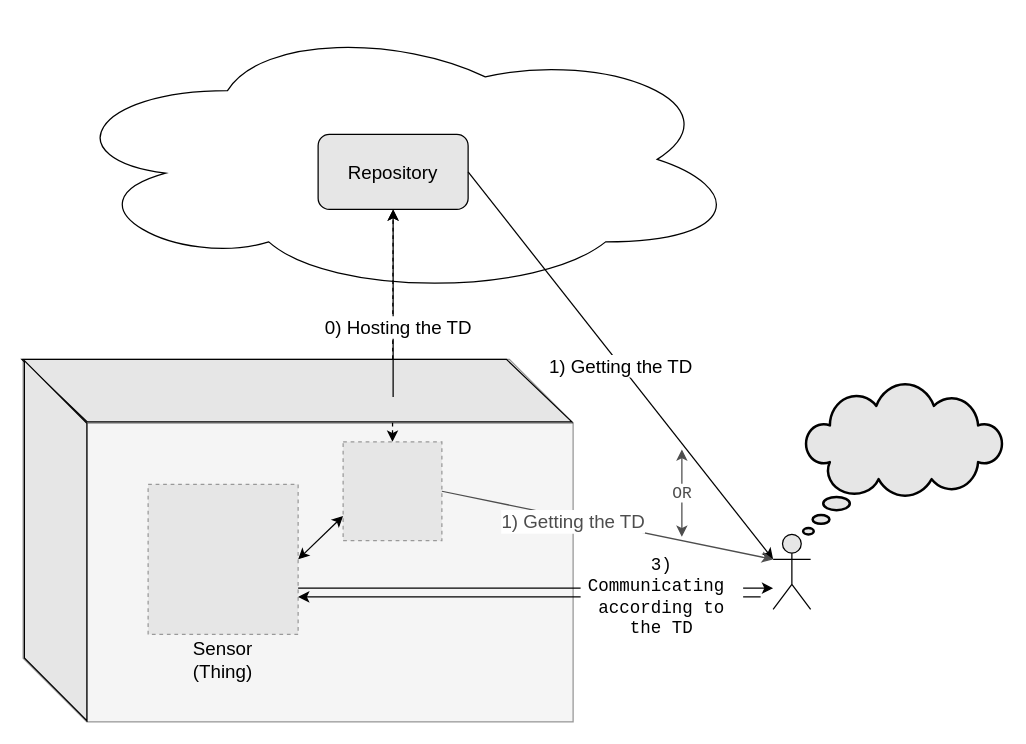
Image size: 1026x744. Some labels were removed from this diagram. Grey dashed boxes stand in for pictures. The shapes that lost their labels are listed below. From the top down, each one's centre as x and y in pixels, then its label:
At pixel 902 458: "2) Understanding how to use the Thing".
At pixel 791 571: "Actor".
